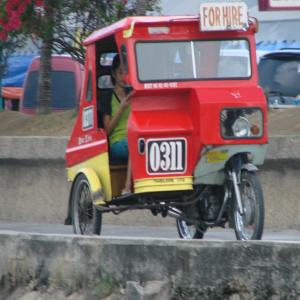Vehicle-registration-plate: (145, 138, 188, 178)
